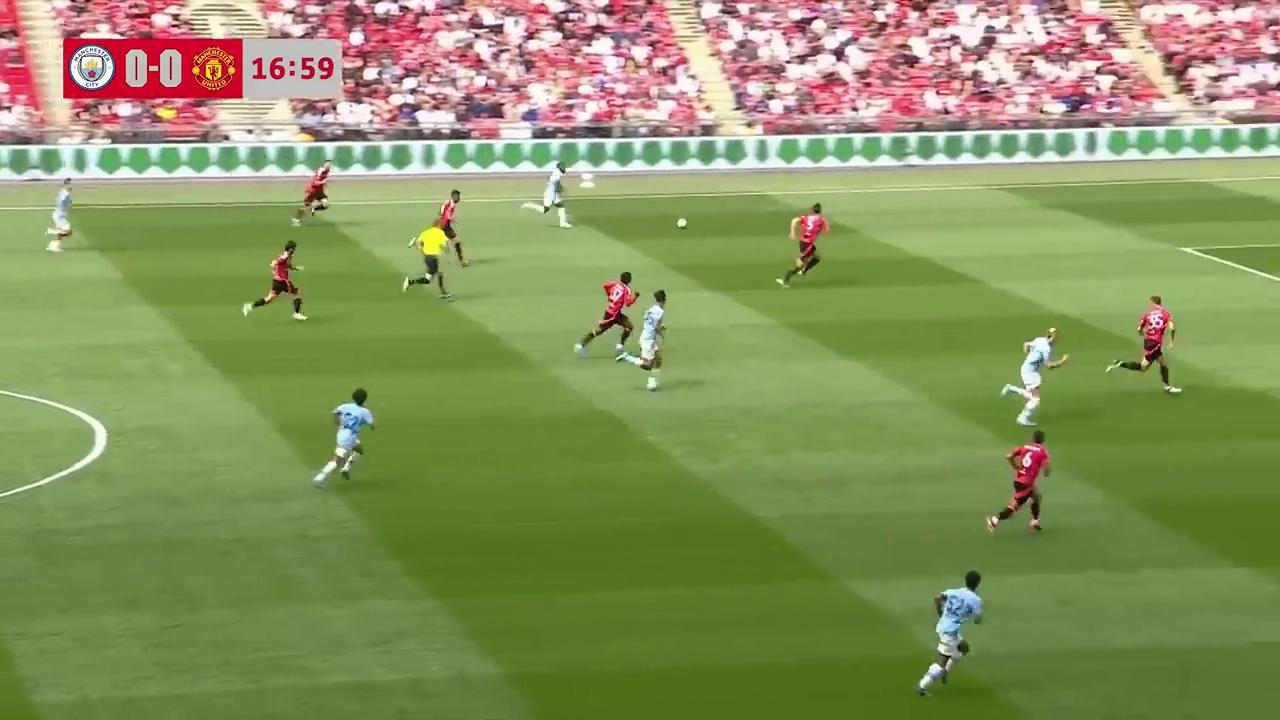ball: (674, 214, 688, 230)
player: (916, 571, 984, 696), (986, 428, 1051, 536), (312, 386, 375, 485), (1117, 294, 1179, 394), (1008, 327, 1069, 427), (575, 270, 635, 361), (247, 240, 307, 322), (780, 202, 828, 285), (636, 290, 666, 393), (437, 189, 469, 266), (536, 163, 571, 228), (293, 164, 331, 223), (46, 182, 74, 252)
referee: (402, 218, 452, 300)
